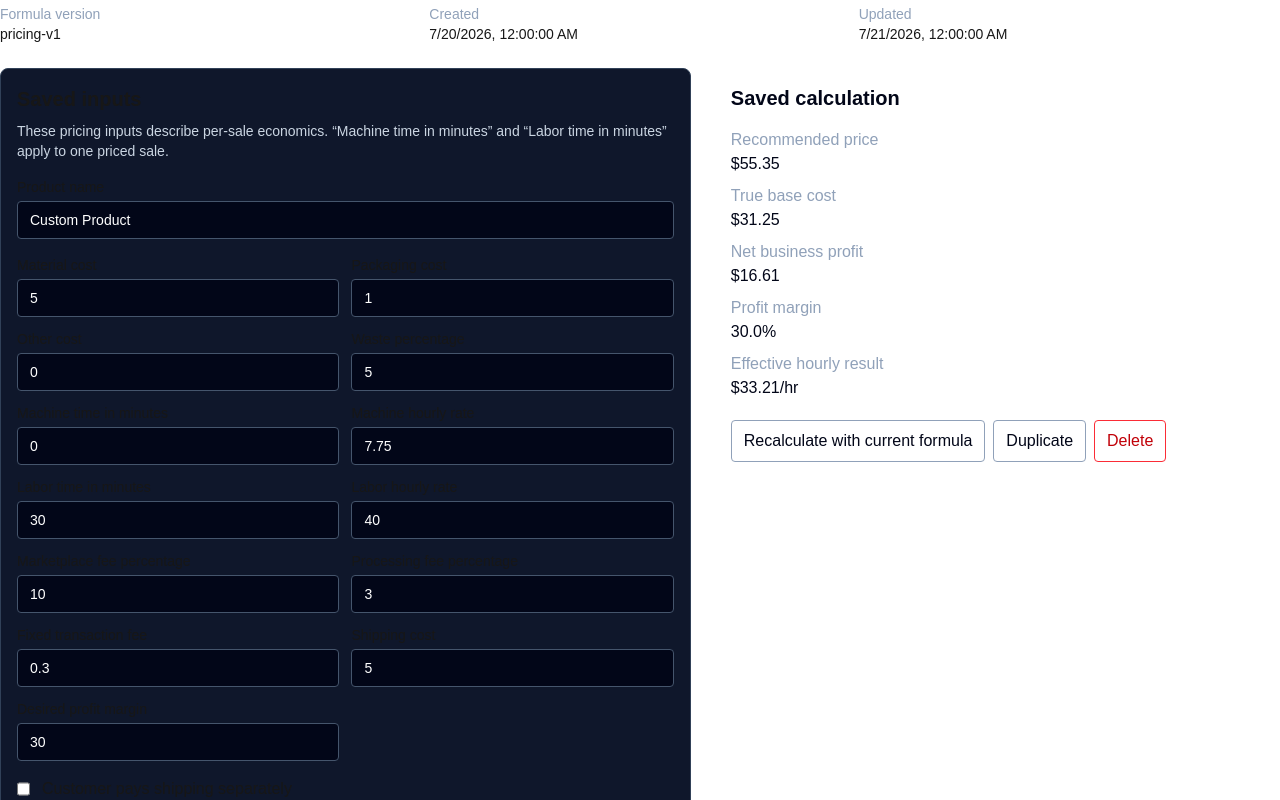
Test: saved product editor › resets to the saved snapshot after confirmation
The width and height of the screenshot is (1280, 800).
Replace the text in the number field labelled "Material cost" with "99": [178, 298] box [17,279,339,317]
(page scrolled)
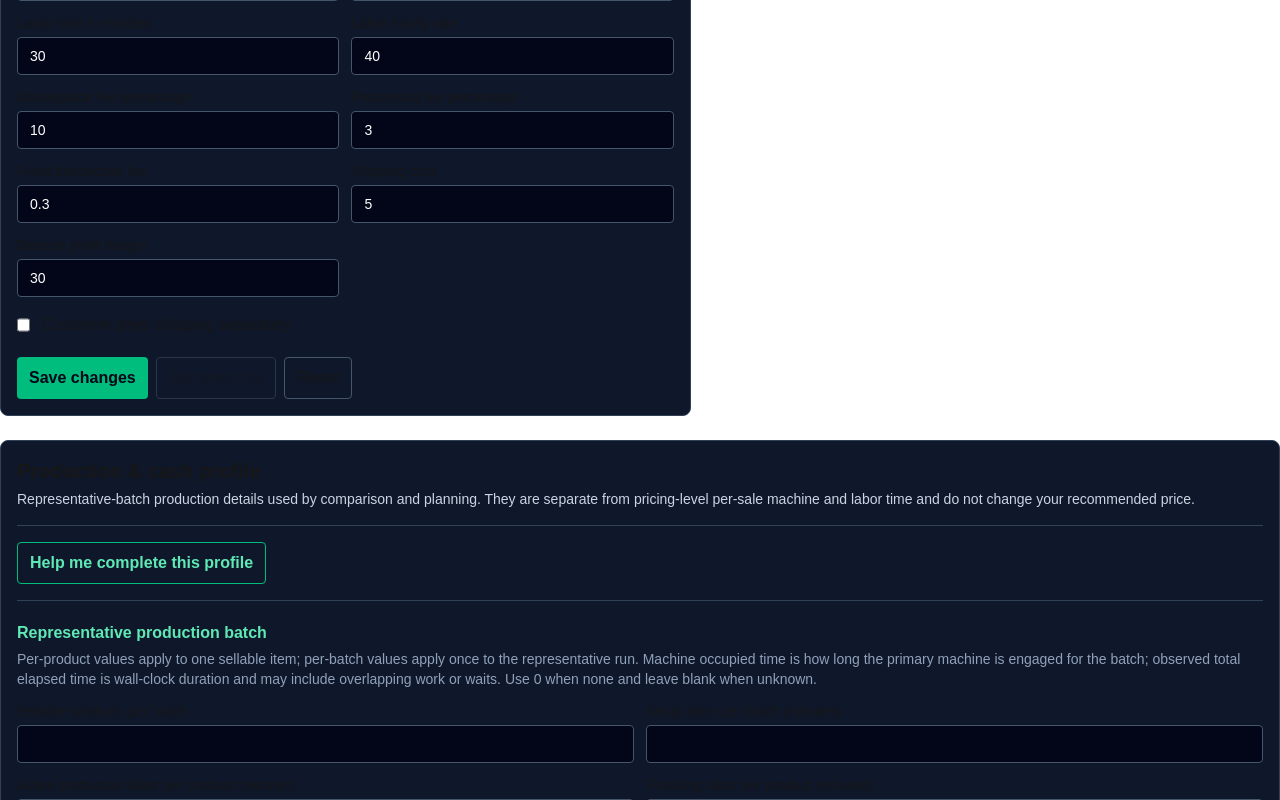
Click the button "Reset": [318, 378] box [284,357,352,399]
(page scrolled)
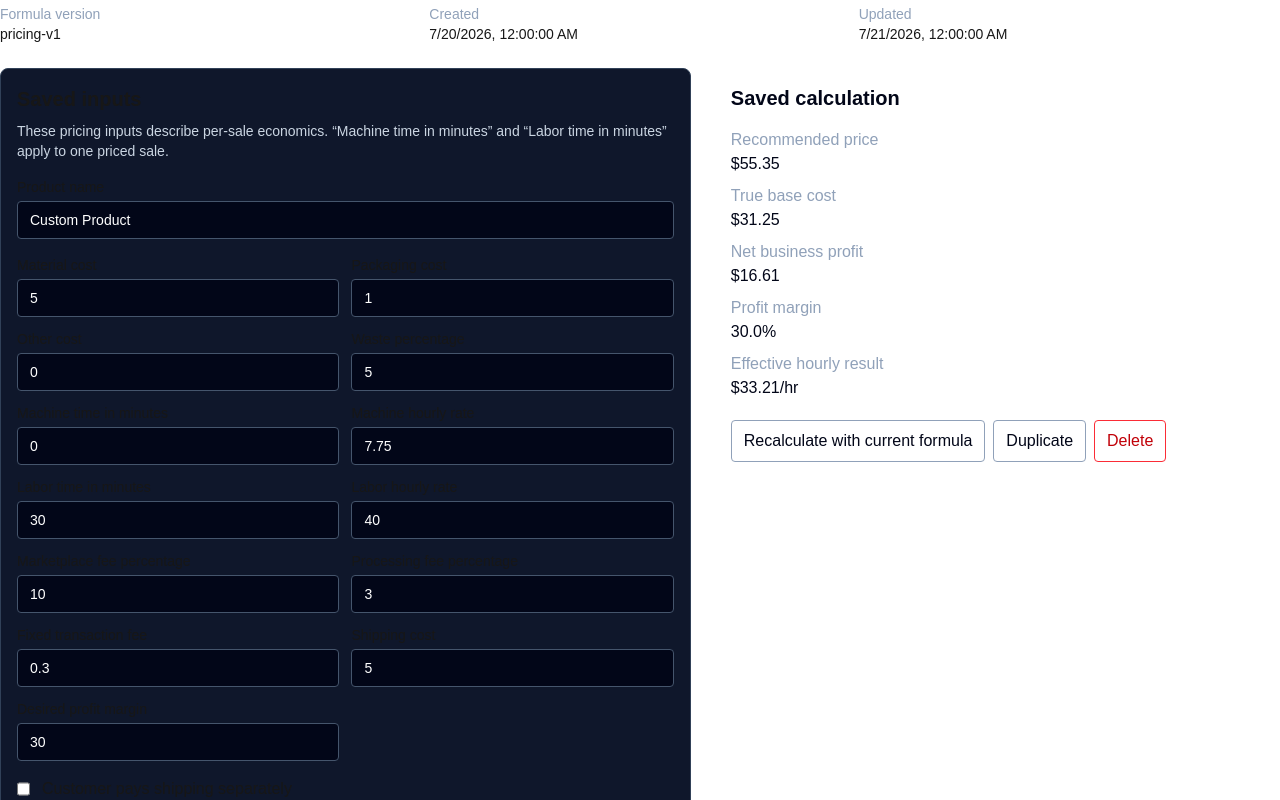
Expected: the number field labelled "Material cost" holds "5", [17,279,339,317]
